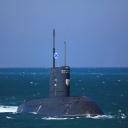submarine: (17, 29, 108, 121)
